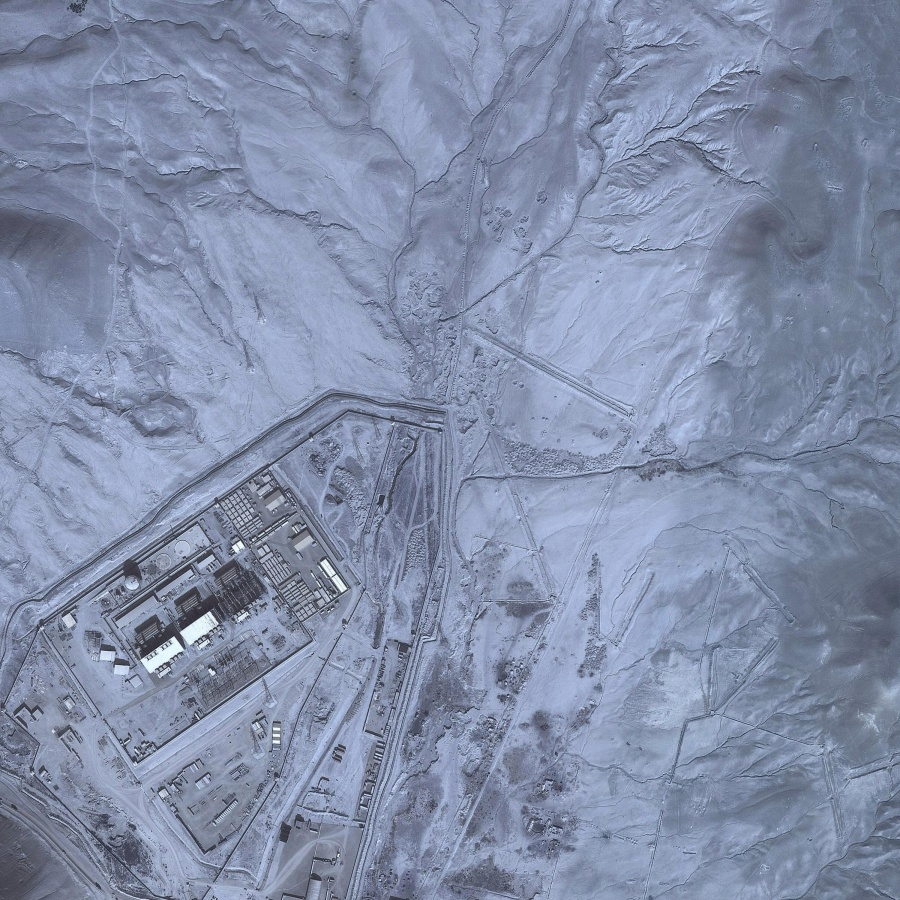PowerPlant: (98, 493, 347, 677)
